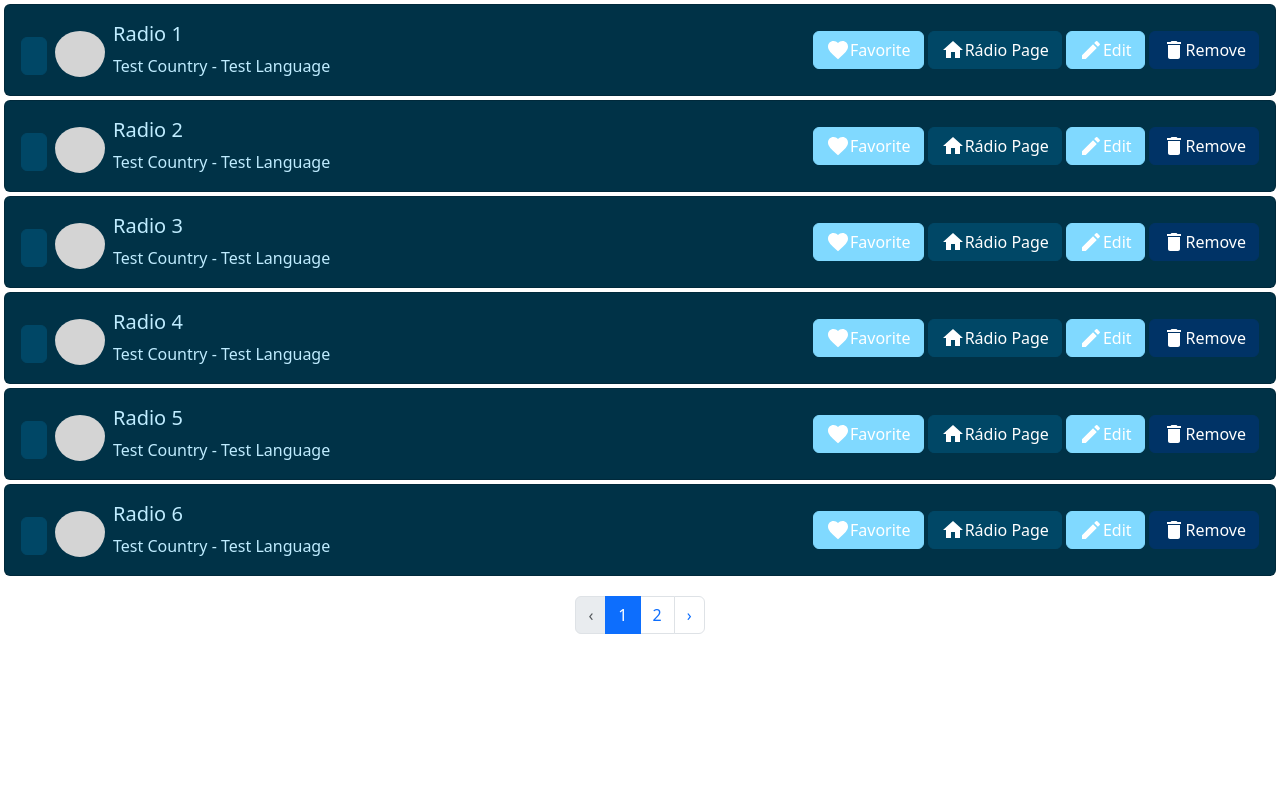
Test case: RadioList Component › changes page when a pagination item is clicked
Click the button "2": (657, 615) x1=640 y1=596 x2=675 y2=634
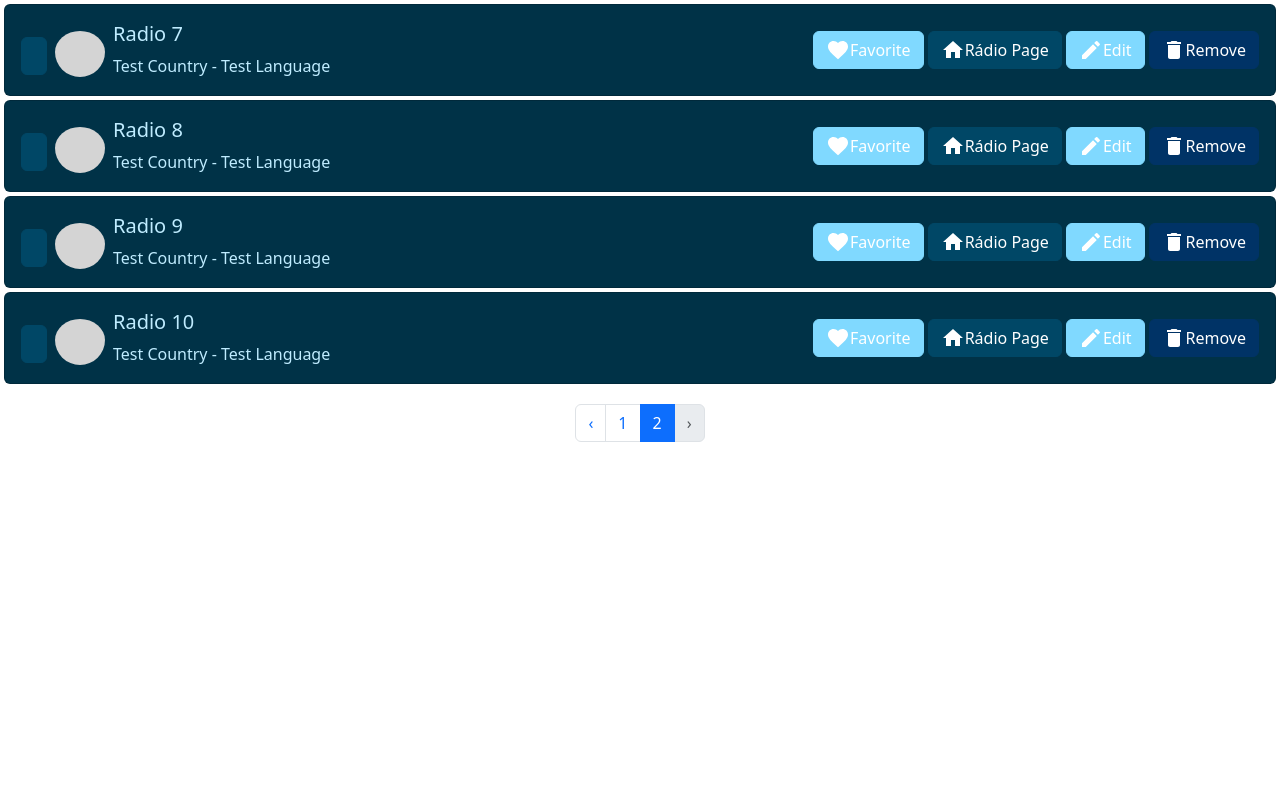
Check: the text "Radio 7" is shown, box x1=113 y1=20 x2=183 y2=47
Check: the text "Radio 10" is shown, box x1=113 y1=308 x2=194 y2=335
